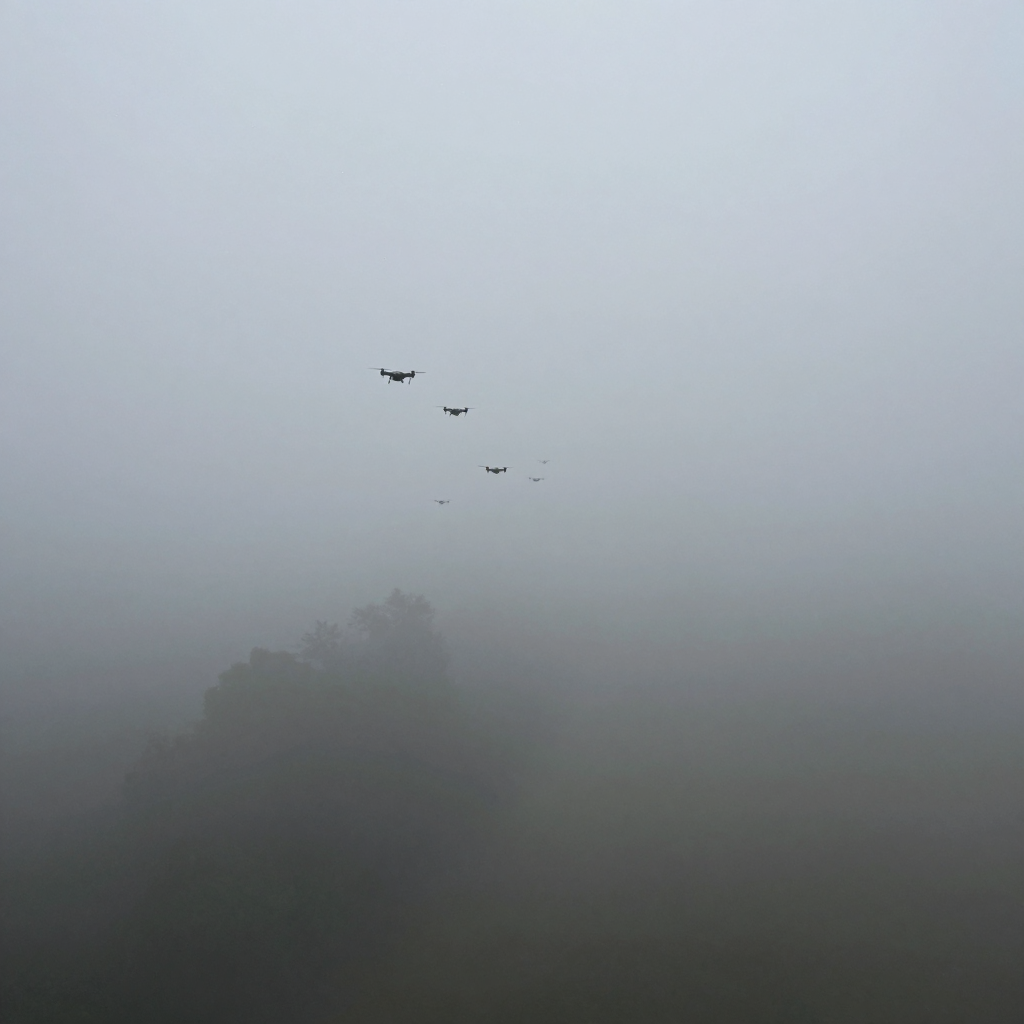drone: (368, 368, 426, 384), (435, 406, 475, 417), (409, 370, 426, 385), (478, 466, 508, 474), (528, 477, 545, 482), (537, 459, 551, 465), (434, 500, 450, 505)
